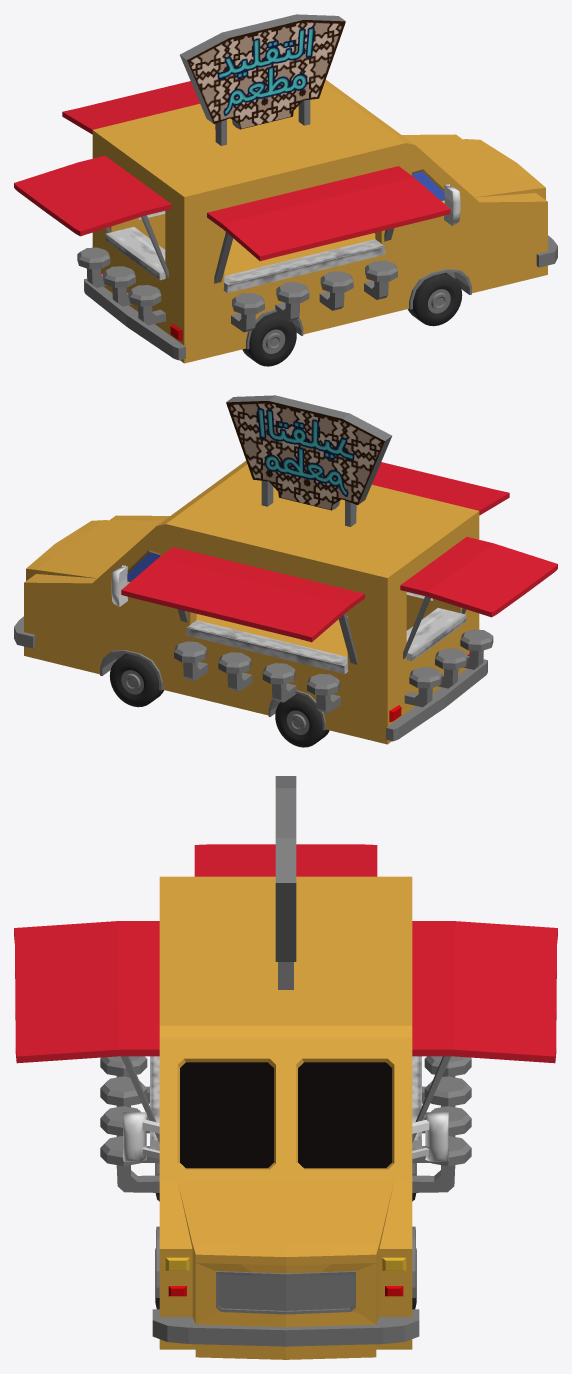
The model's file is food truck.fbx.
3 views of the same model, one above another, from view 1: azimuth 30°, elevation 25°; view 2: azimuth 150°, elevation 25°; view 3: azimuth 270°, elevation 25° (orthographic). The views are drawn at different scales.
Parts seen in each view (by area): view 1: camion, hauvent, sign, hauvent.001, pneus, sieges, sieges.001, retro; view 2: camion, hauvent, sign, hauvent.001, pneus, sieges, sieges.001, retro; view 3: camion, hauvent, sieges, hauvent.001, sign, retro.
Part boxes in pixels (bbox=[...]): camion: bbox=[84, 80, 557, 363]; hauvent: bbox=[62, 81, 450, 283]; sign: bbox=[180, 14, 345, 145]; hauvent.001: bbox=[14, 156, 171, 278]; pneus: bbox=[242, 272, 462, 366]; sieges: bbox=[231, 260, 397, 332]; sieges.001: bbox=[77, 247, 165, 325]; retro: bbox=[444, 184, 460, 225]; camion: bbox=[14, 461, 487, 744]; hauvent: bbox=[121, 462, 509, 664]; sign: bbox=[226, 395, 391, 526]; hauvent.001: bbox=[400, 537, 557, 659]; pneus: bbox=[109, 653, 329, 747]; sieges: bbox=[174, 641, 340, 713]; sieges.001: bbox=[404, 629, 493, 707]; retro: bbox=[111, 565, 127, 606]; camion: bbox=[150, 876, 421, 1359]; hauvent: bbox=[14, 921, 557, 1142]; sieges: bbox=[100, 1056, 471, 1192]; hauvent.001: bbox=[194, 844, 377, 876]; sign: bbox=[275, 776, 296, 989]; retro: bbox=[123, 1112, 448, 1161].
Bounding box in the file's own units: 4187 × 2506 × 3015.
